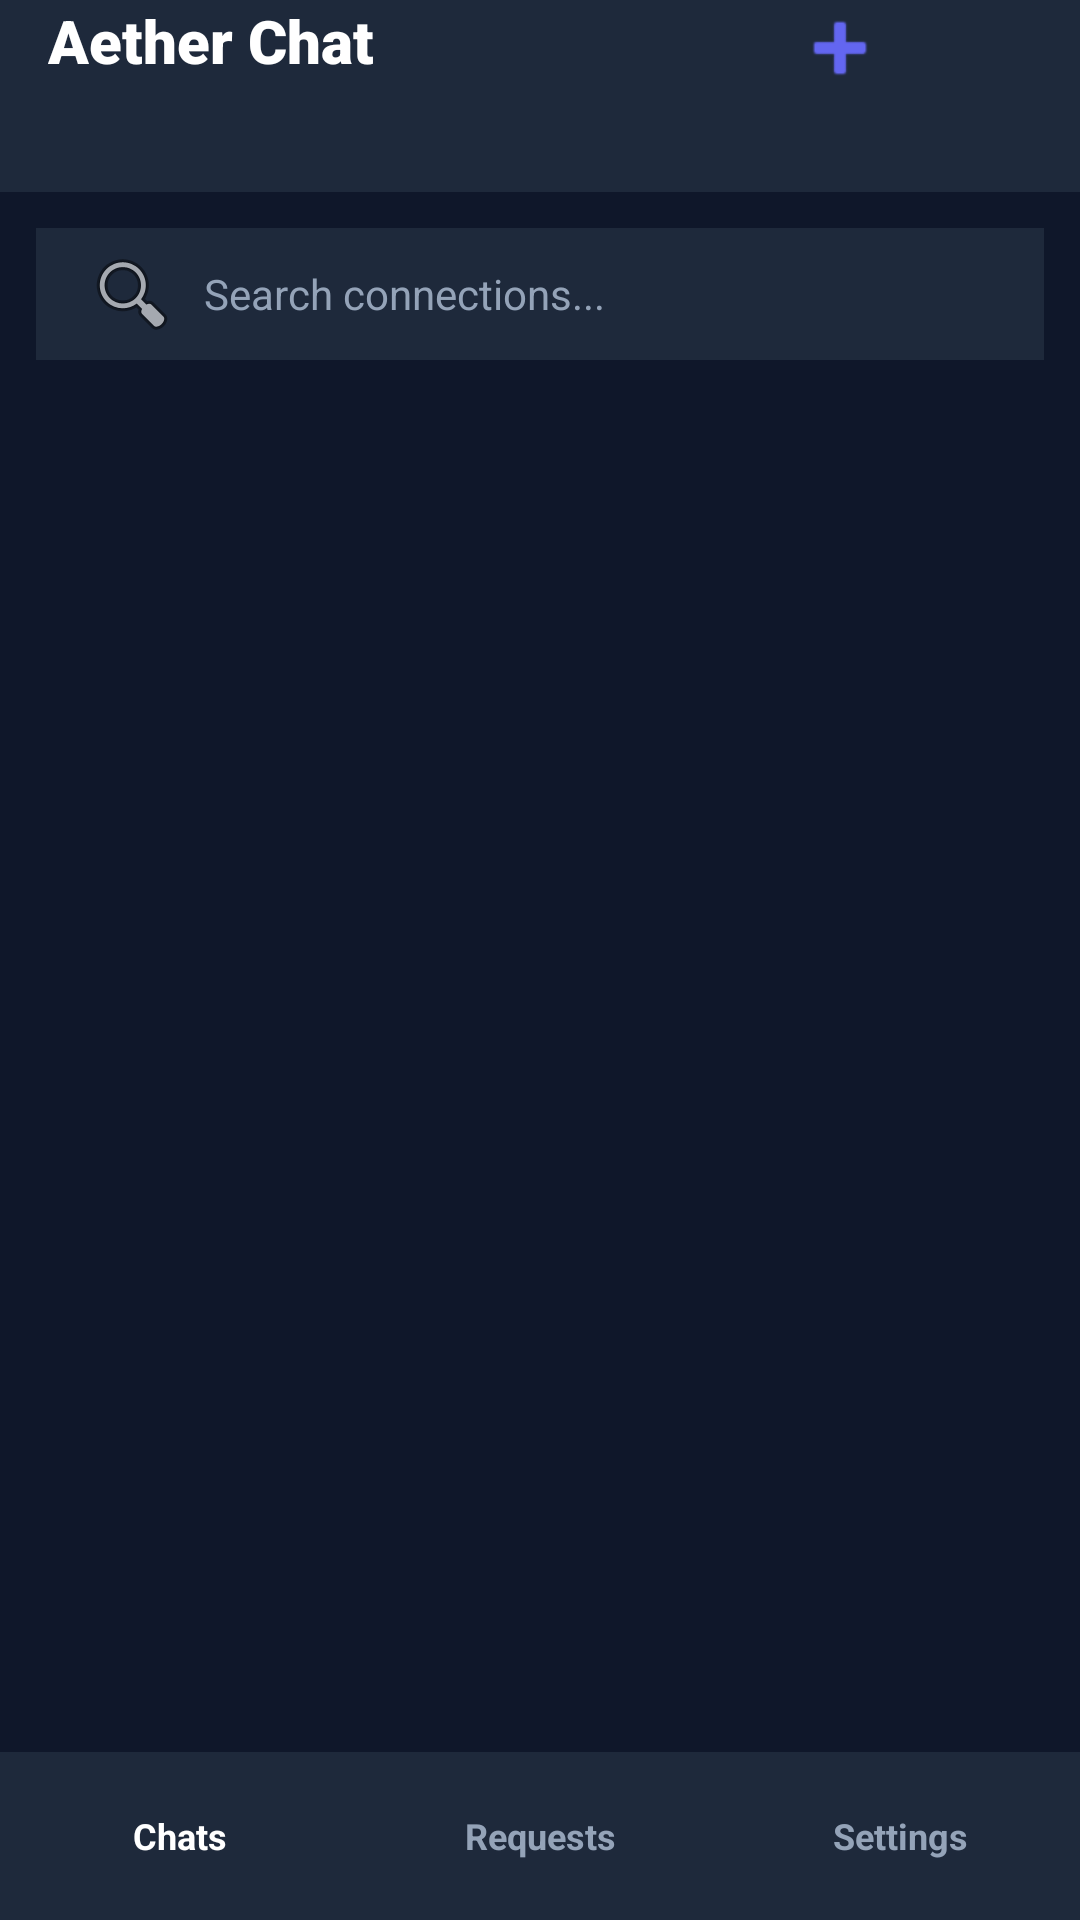

Named icons in this screenshot (1080w x 1920h) and their bounding boxes, (x1,y1,x2,y2):
Add Connection: (813,21,867,75)
